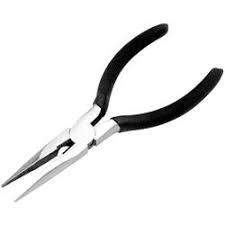pliers: (0, 21, 223, 202)
